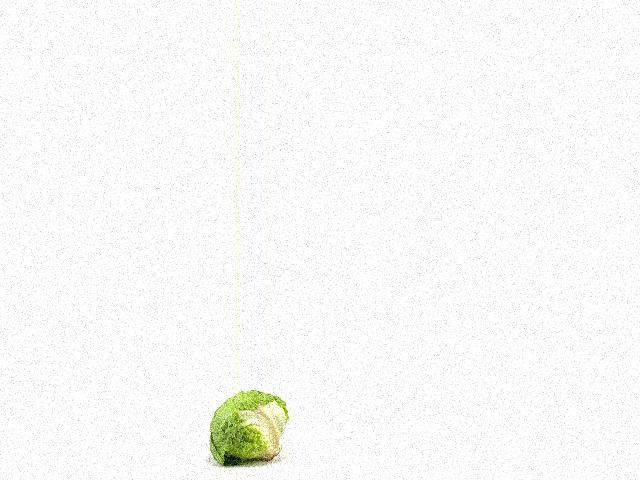lettuce: (207, 390, 290, 469)
